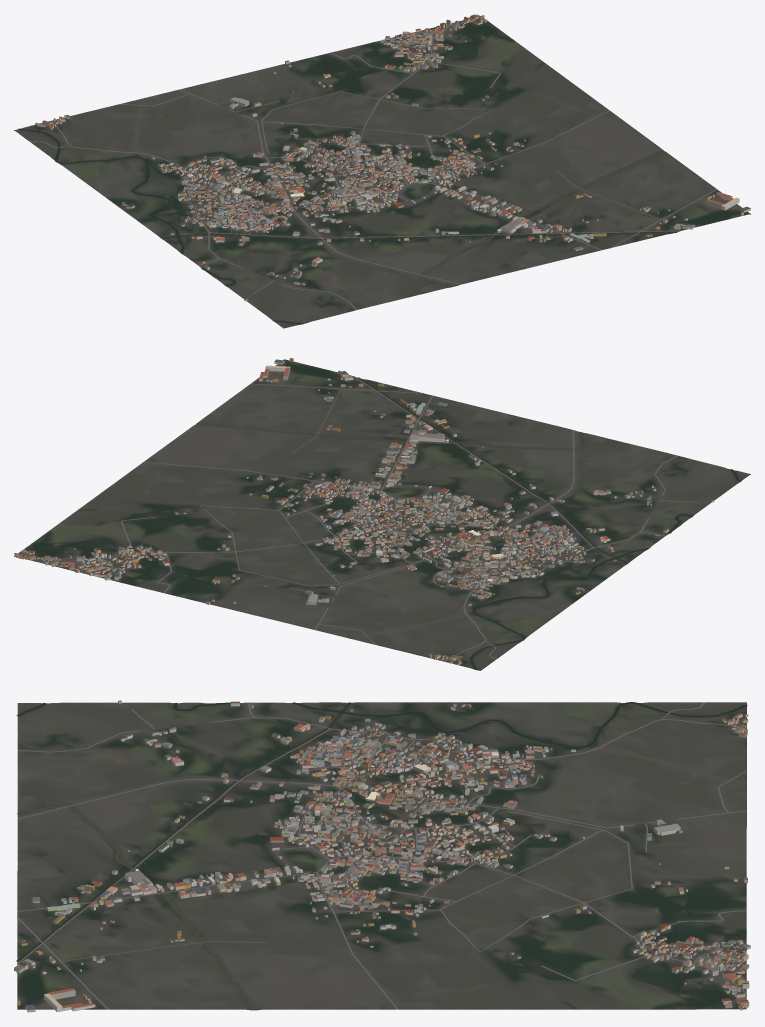
3 renders of one model, top to bottom at view 1: azimuth 30°, elevation 25°; view 2: azimuth 150°, elevation 25°; view 3: azimuth 270°, elevation 25°, orthographic. The views are drawn at different scales.
Parts seen in each view (by area): view 1: ground, buildings, roads, water; view 2: ground, buildings, roads, water; view 3: ground, buildings, roads, water.
Boxes of the visible parts, x1,y1,x2,y2 form: ground: (14, 17, 750, 328); buildings: (35, 14, 750, 301); roads: (29, 21, 717, 310); water: (18, 128, 676, 324); ground: (14, 359, 750, 670); buildings: (14, 358, 714, 665); roads: (35, 376, 706, 661); water: (196, 377, 741, 669); ground: (17, 702, 746, 1010); buildings: (14, 700, 750, 1012); roads: (17, 702, 746, 1009); water: (16, 702, 747, 1010).
Size of the model in its own units: 1415 by 23.53 by 1417.
